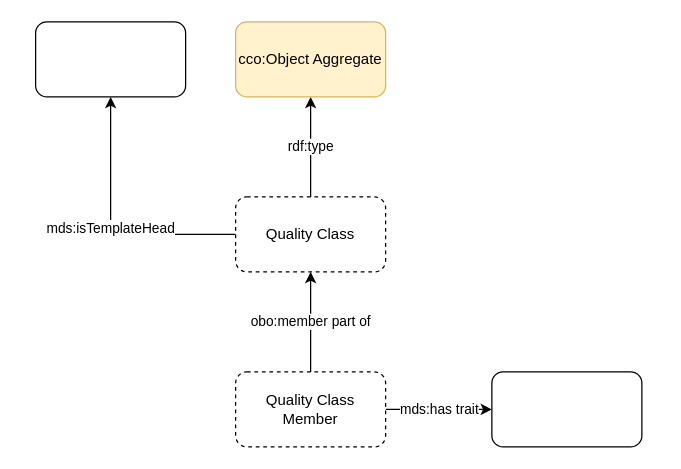
This 681x469 diagram has some shape labels left out. The centre of each missing label's shape, as x and y in pixels:
"mds:QualityClassTemplate" goes at point 110,59.
"mds:QualityPersonTemplate" goes at point 566,409.
